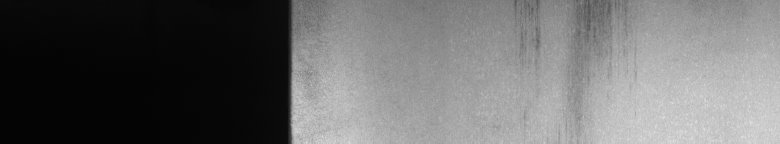ka: (521, 4, 622, 53)
